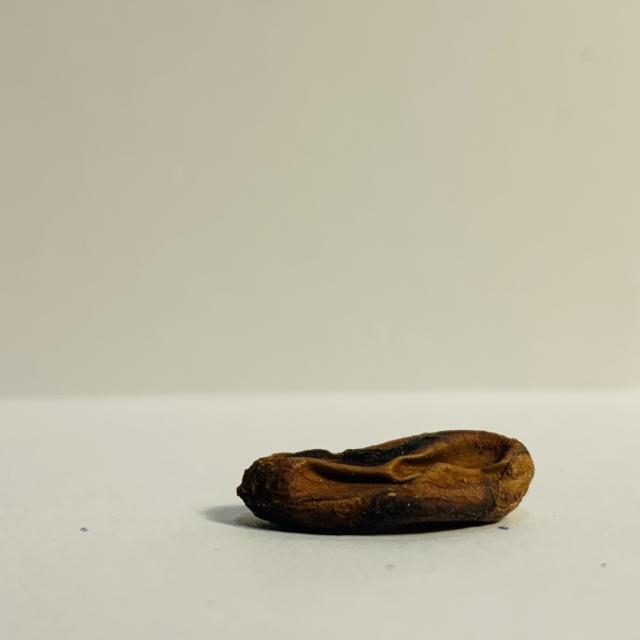Flat_cocoabeans: (109, 409, 569, 557)
